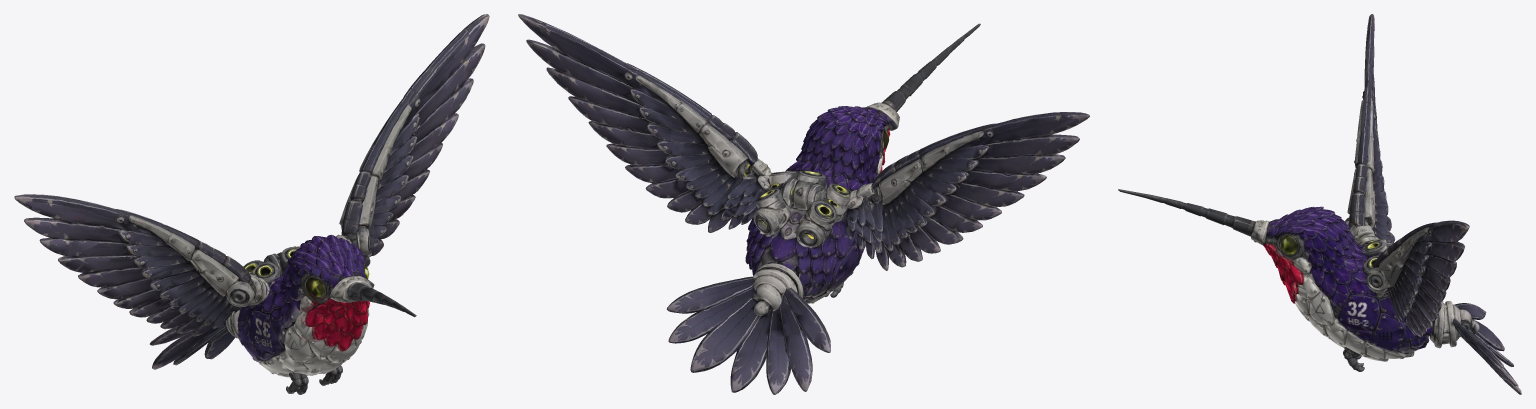
Rendered from hummingbird.glb.
3 views of the same model, side by side, from view 1: azimuth 30°, elevation 25°; view 2: azimuth 150°, elevation 25°; view 3: azimuth 270°, elevation 25° (orthographic). The views are drawn at different scales.
Size of the model in its own units: 3.4 by 1.87 by 2.56.
1 material, 1 textured.
